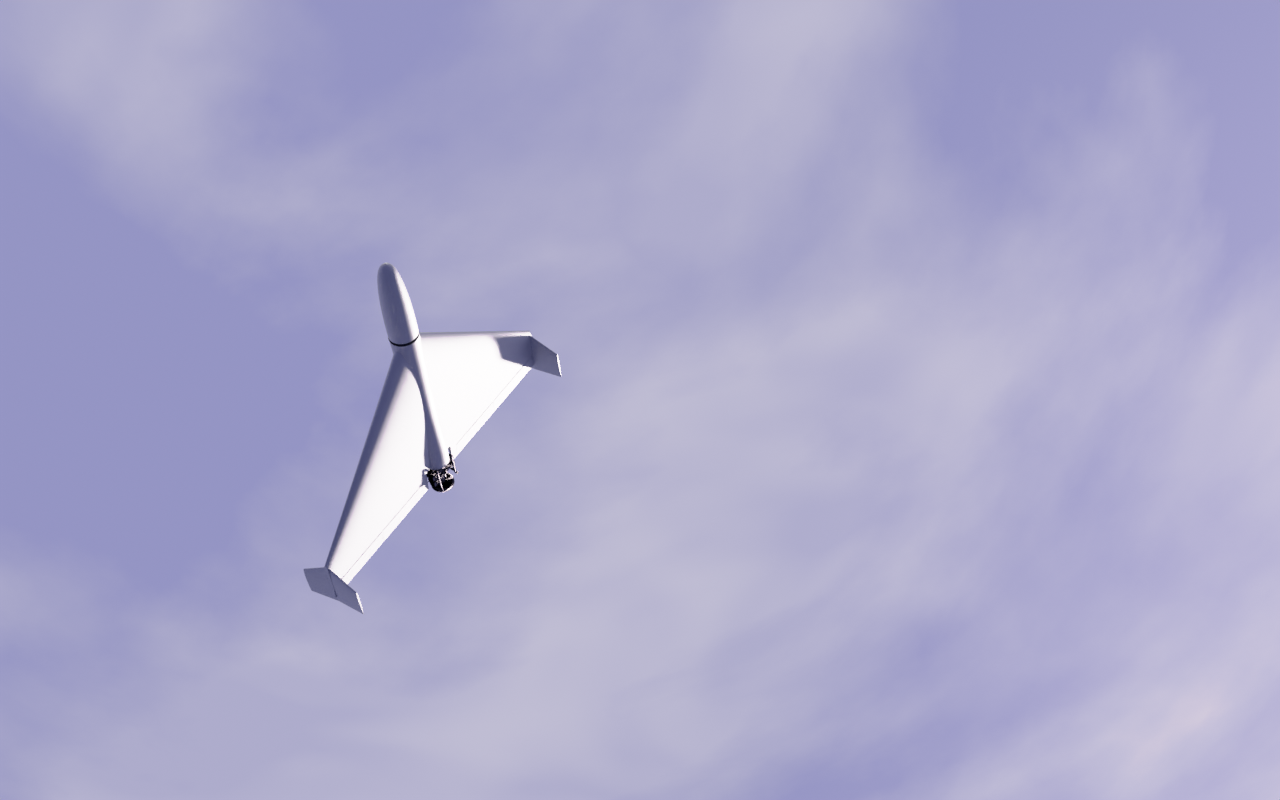shahed: (304, 262, 563, 616)
